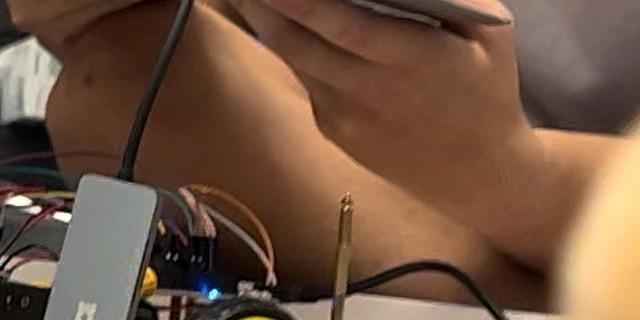burger: (483, 0, 640, 320)
